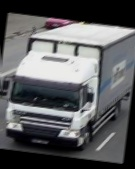truck: (1, 15, 133, 157)
